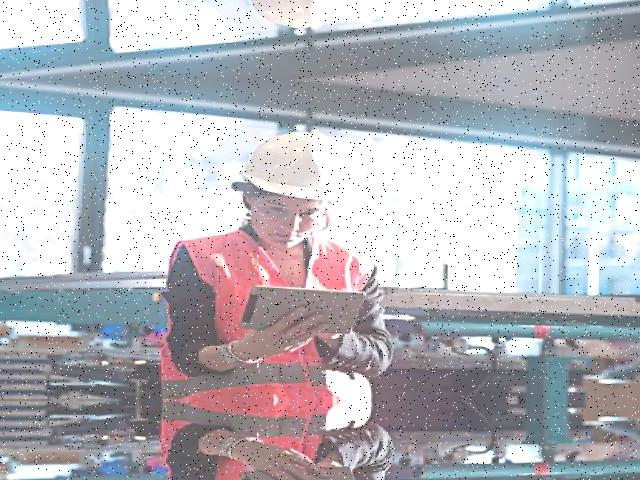Helmet: (240, 127, 356, 212)
